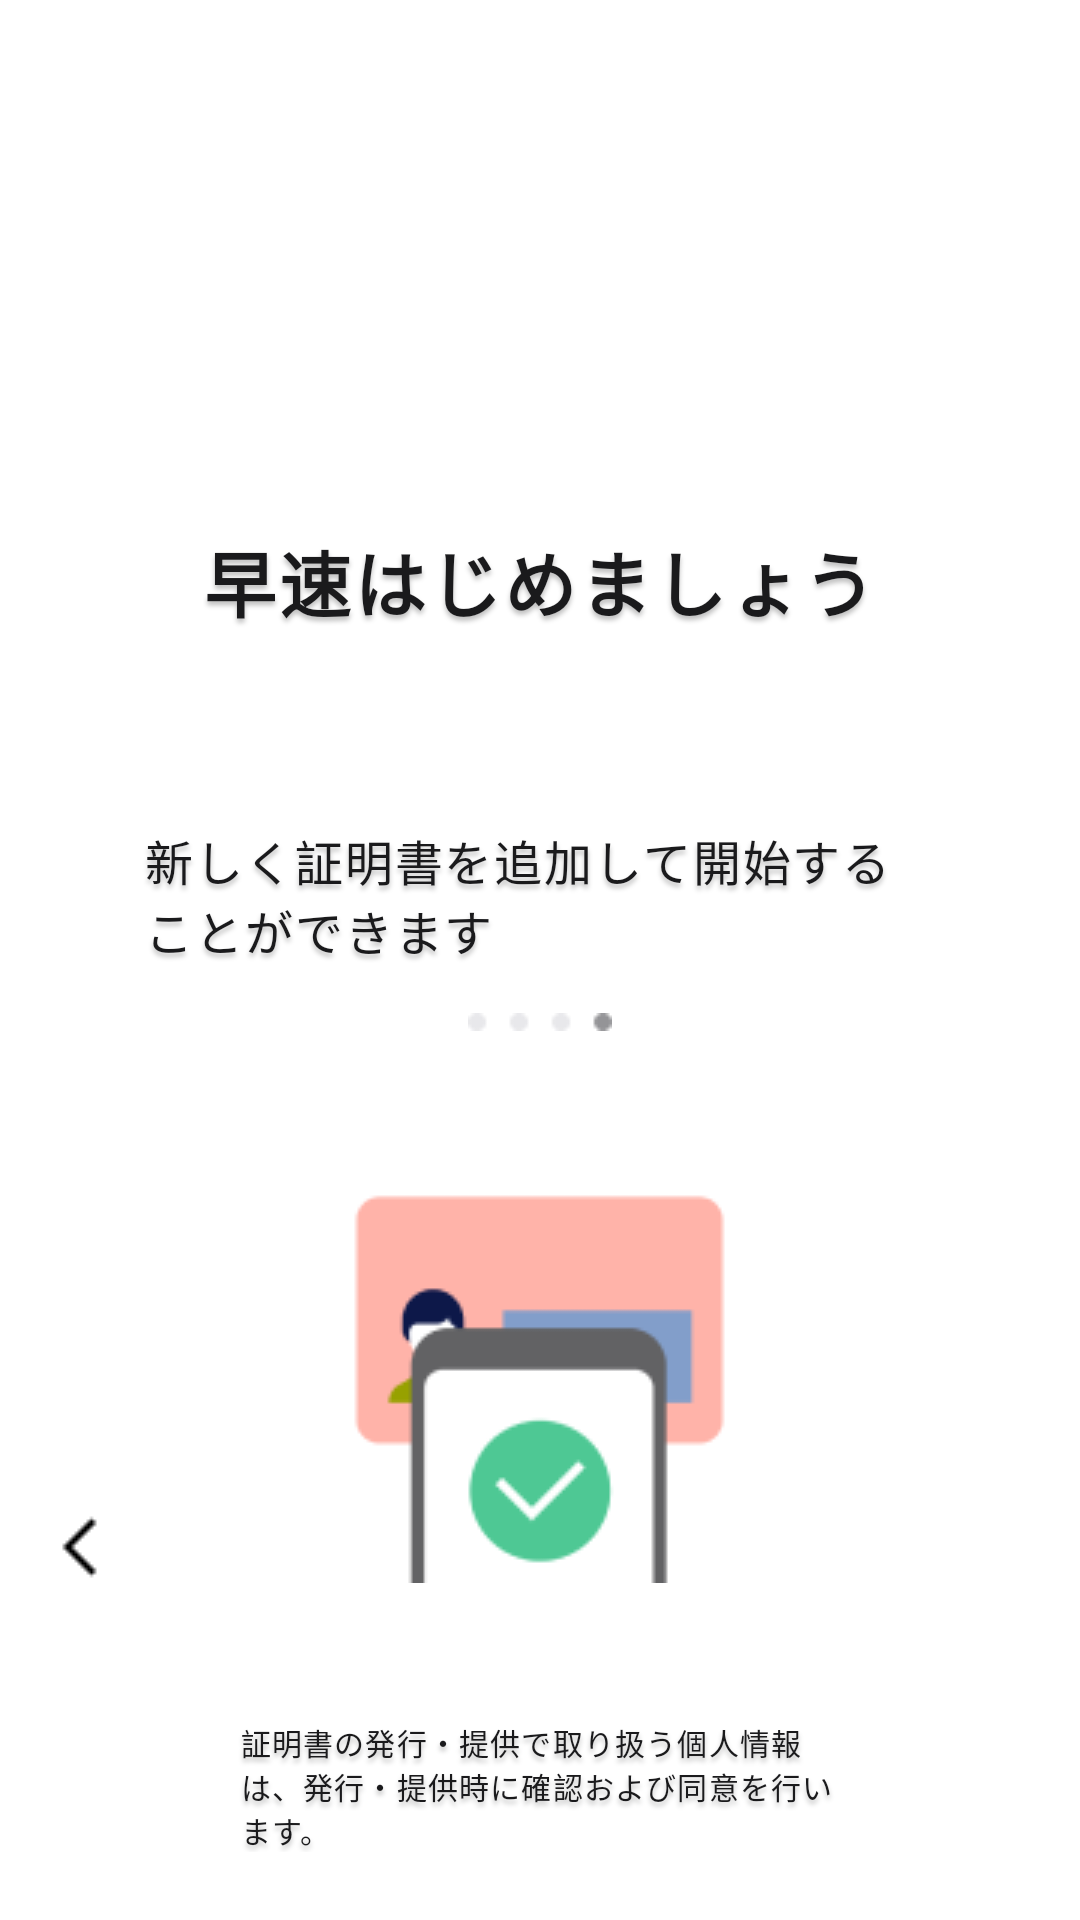

Icon click points for this 1080w x 1920h phone screenshot, format [x,y]:
arrow left: [79,1547]
